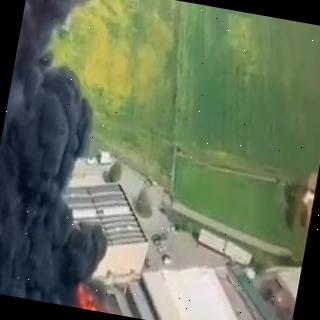smoke: (0, 0, 161, 289)
